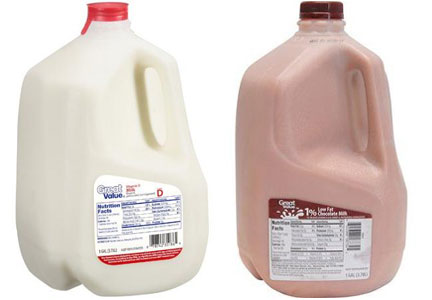milk: (28, 4, 211, 293), (240, 2, 408, 300)
